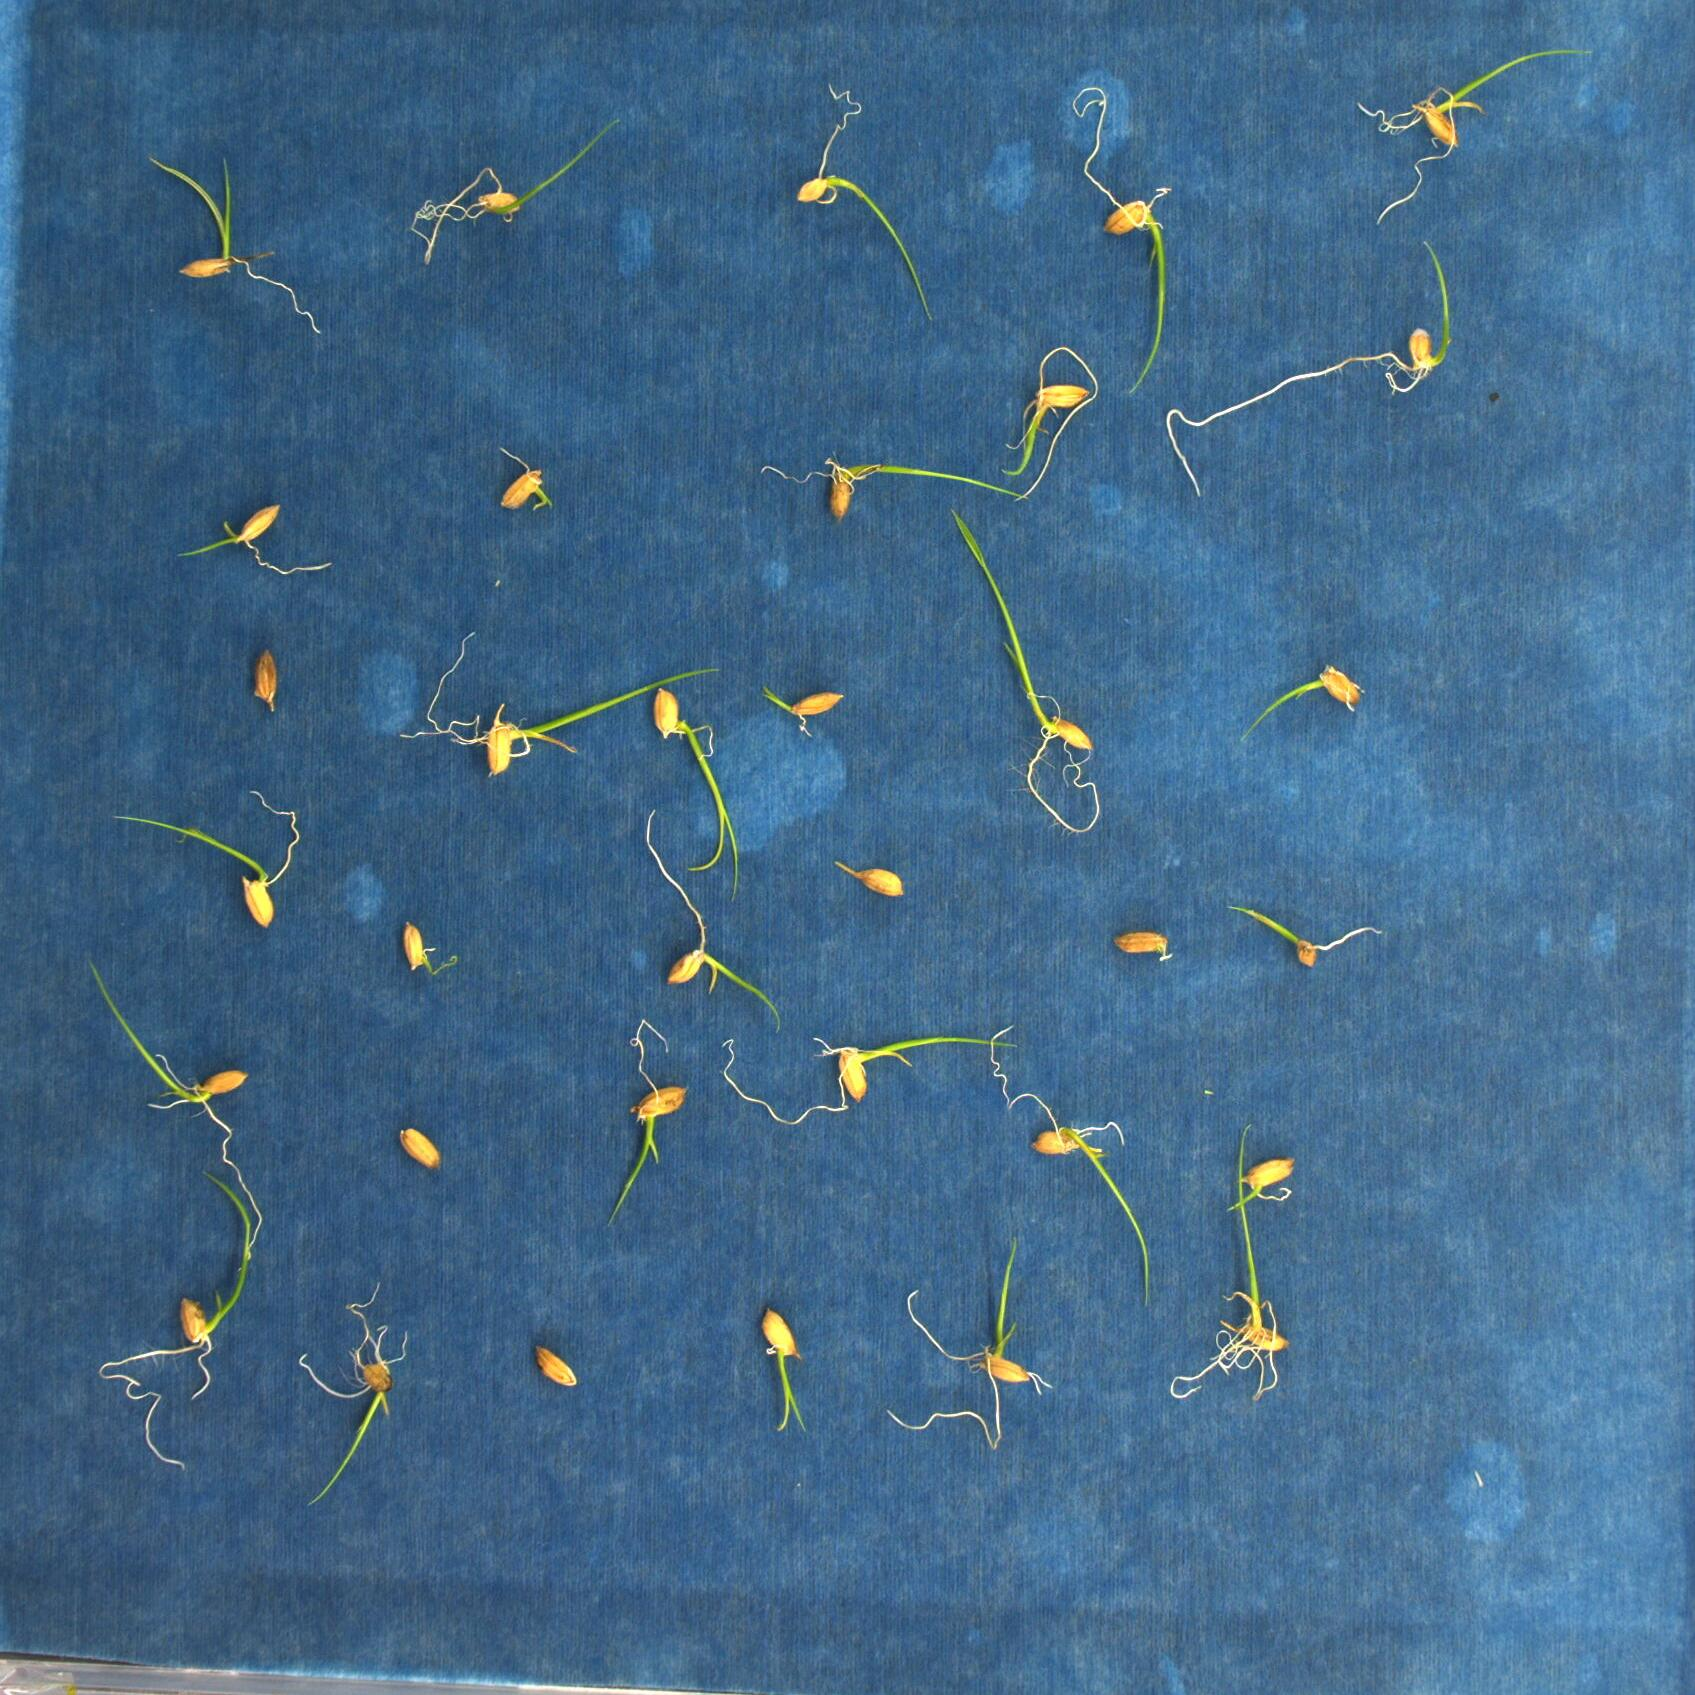not sprout: (244, 647, 287, 712), (1108, 925, 1175, 964), (532, 1343, 584, 1391), (399, 1122, 442, 1167)
sprout: (1164, 231, 1451, 497), (88, 961, 258, 1263), (947, 504, 1101, 837), (984, 1023, 1153, 1312), (95, 1172, 255, 1475), (400, 627, 722, 768), (1352, 45, 1586, 227), (886, 1237, 1059, 1448), (792, 88, 938, 328), (405, 116, 632, 262), (151, 157, 329, 341), (641, 807, 785, 1032), (1173, 1125, 1284, 1406), (1069, 82, 1167, 393), (112, 789, 304, 931), (723, 1032, 1018, 1125), (293, 1276, 411, 1506), (647, 688, 744, 900), (607, 1014, 688, 1228), (761, 452, 1018, 518), (1000, 343, 1101, 508), (180, 501, 328, 576), (1220, 900, 1383, 964), (1237, 660, 1364, 740), (759, 1309, 816, 1439), (1225, 1152, 1301, 1217), (761, 683, 844, 740), (497, 441, 553, 509), (391, 924, 456, 976), (826, 863, 903, 899)
